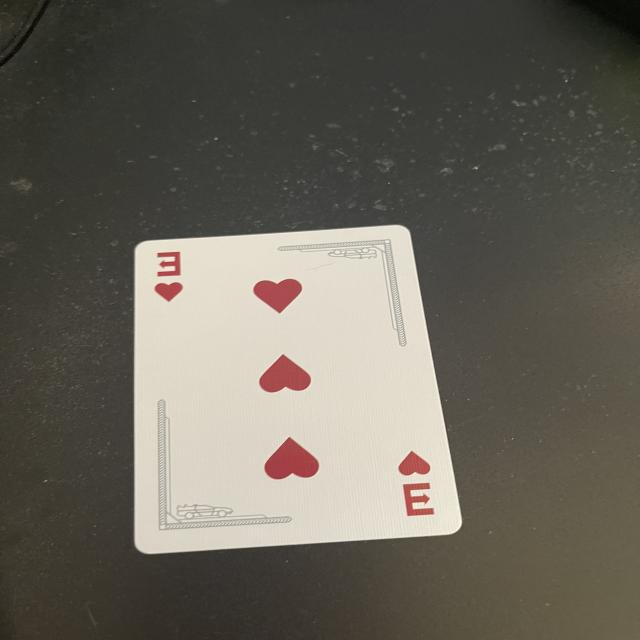3 of hearts: (136, 228, 454, 551)
